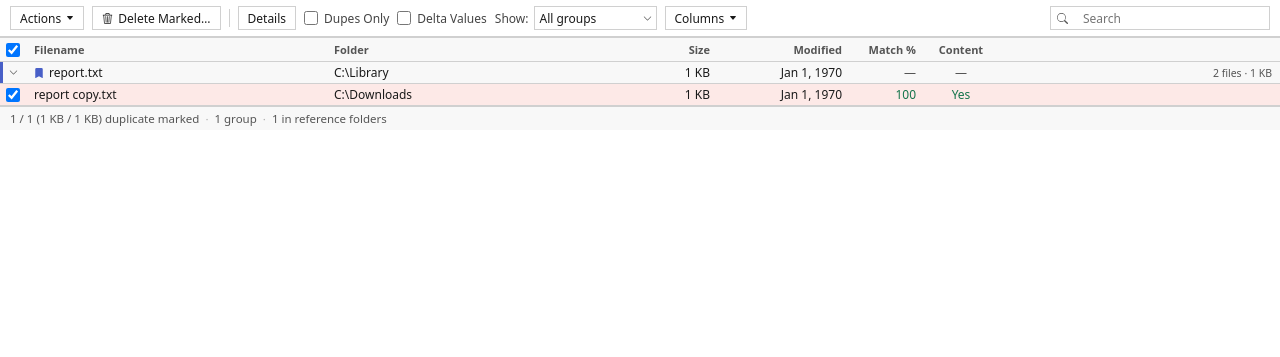
Test: DuplicatesResults review workflow › compares the selected row with its reference in the Details pane
Step 1. Click the button "Details" → (267, 18), box [238,6,296,30]
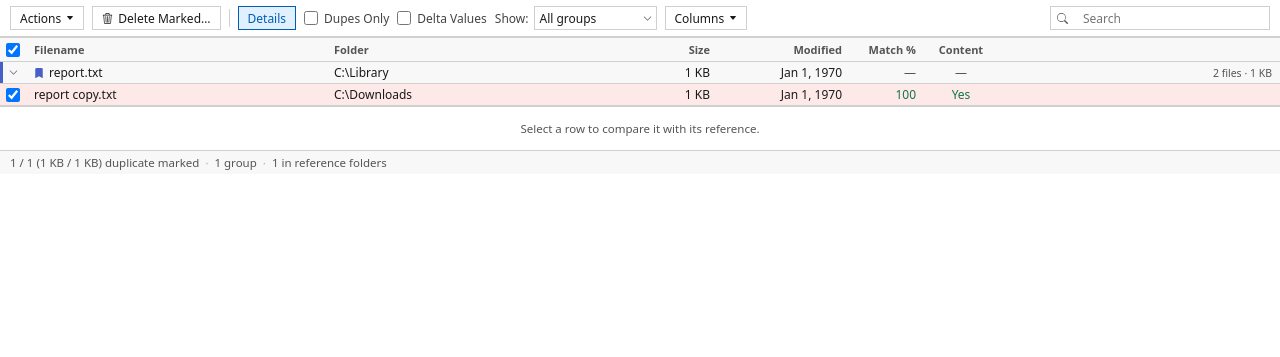
Check: the text "Select a row to compare it with its reference." is shown, box [520,121,760,136]
Step 2. Click the text "report copy.txt" → (75, 94), box [34,86,117,103]
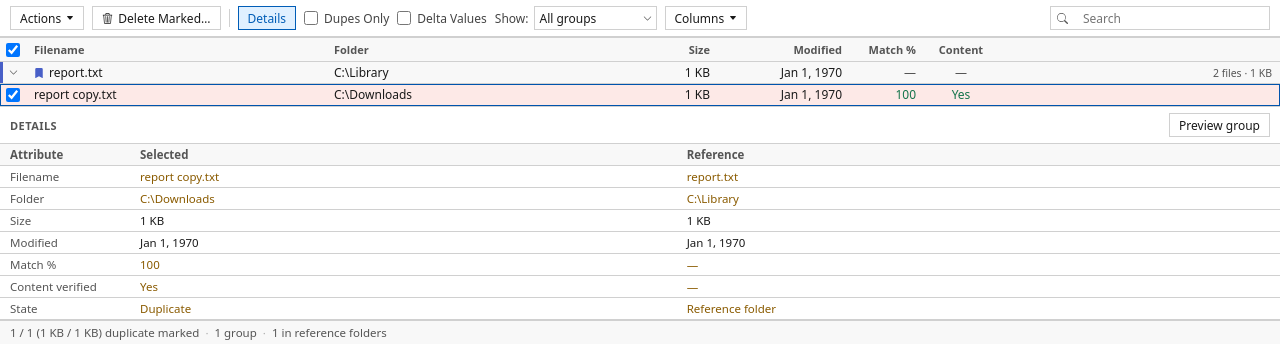
Check: the column heading "Reference" is shown, box [677,144,1279,166]
Check: the column heading "Content verified" is shown, box [0,276,130,298]
Check: the text "C:\\Downloads" below "Attribute" is shown, box [140,191,215,206]
